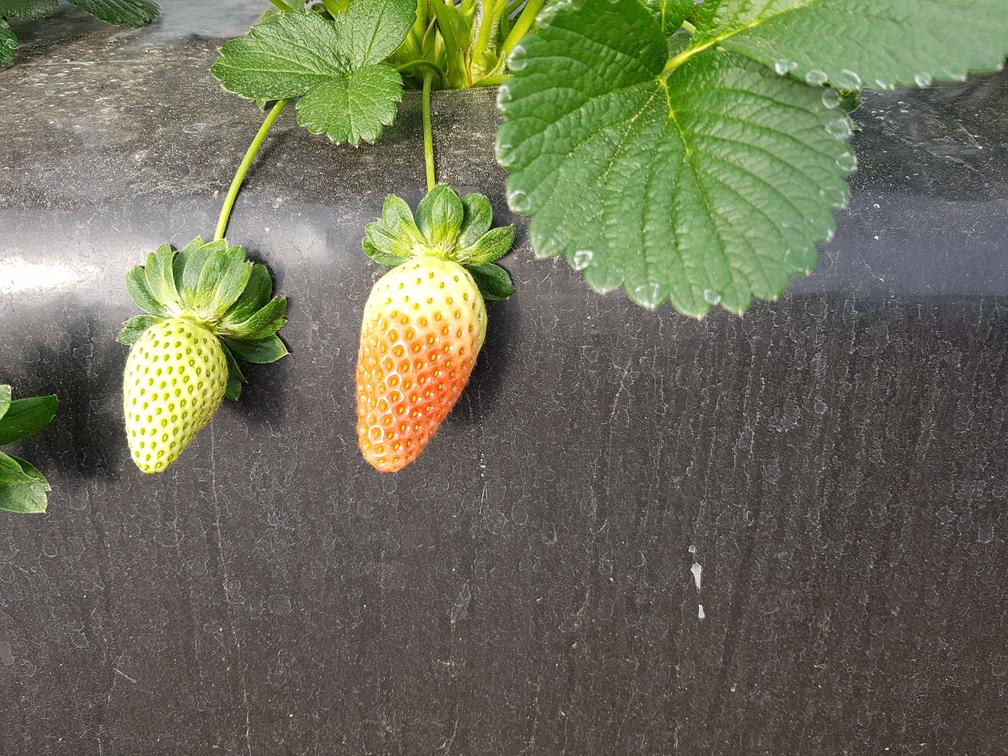Ripe: (351, 261, 499, 481)
Unripe: (114, 320, 233, 477)
